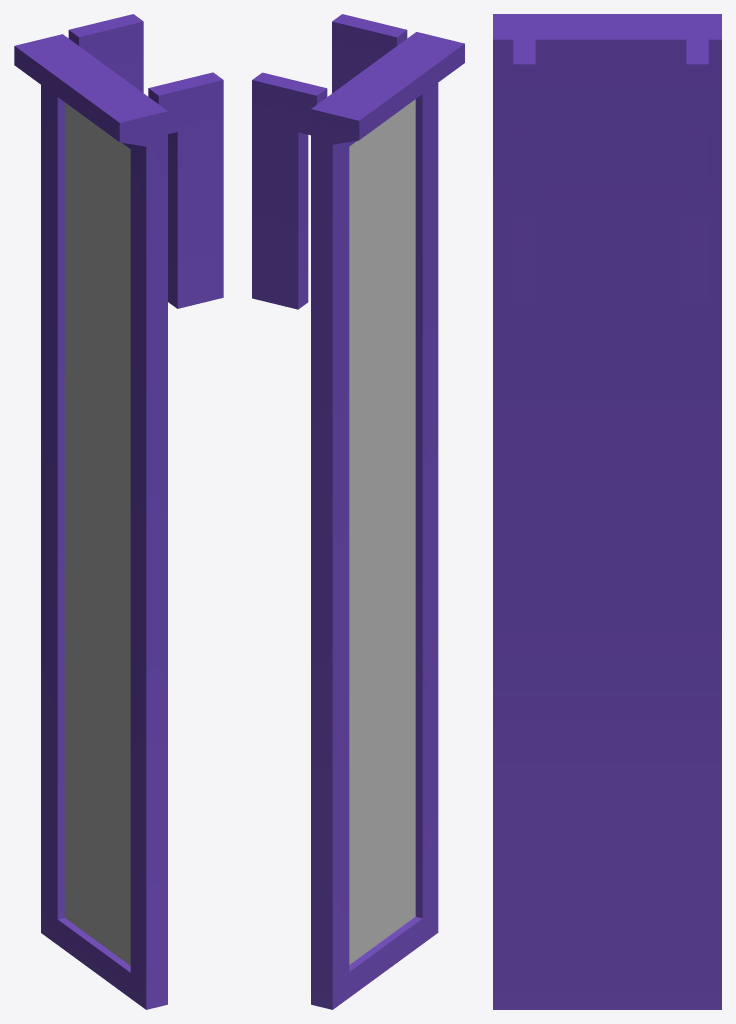
File: SignProp_2_C_6.fbx
3 views of the same model, side by side, from view 1: azimuth 30°, elevation 25°; view 2: azimuth 150°, elevation 25°; view 3: azimuth 270°, elevation 25° (orthographic). The views are drawn at different scales.
Parts seen in each view (by area): view 1: SignProp_2_C_6; view 2: SignProp_2_C_6; view 3: SignProp_2_C_6.
Boxes of the visible parts, x1,y1,x2,y2 form: SignProp_2_C_6: (14, 14, 223, 1009); SignProp_2_C_6: (252, 14, 464, 1009); SignProp_2_C_6: (493, 14, 721, 1009).
Size of the model in its own units: 20.96 by 160 by 33.84.
